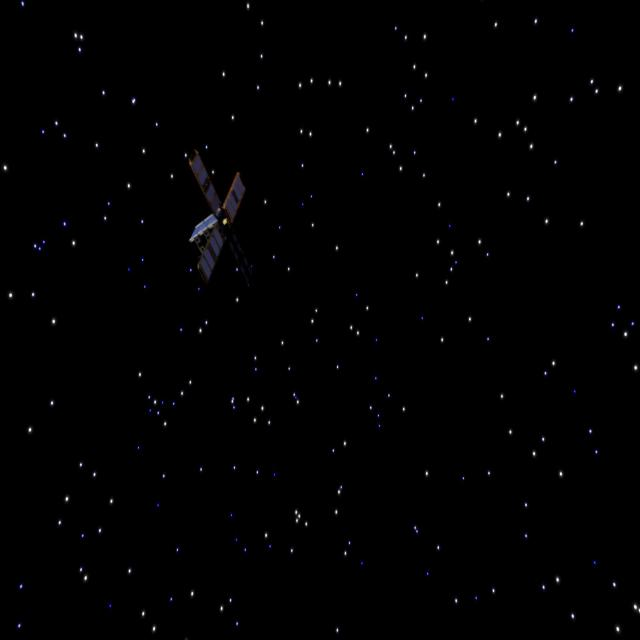medium_debris: (168, 152, 264, 292)
